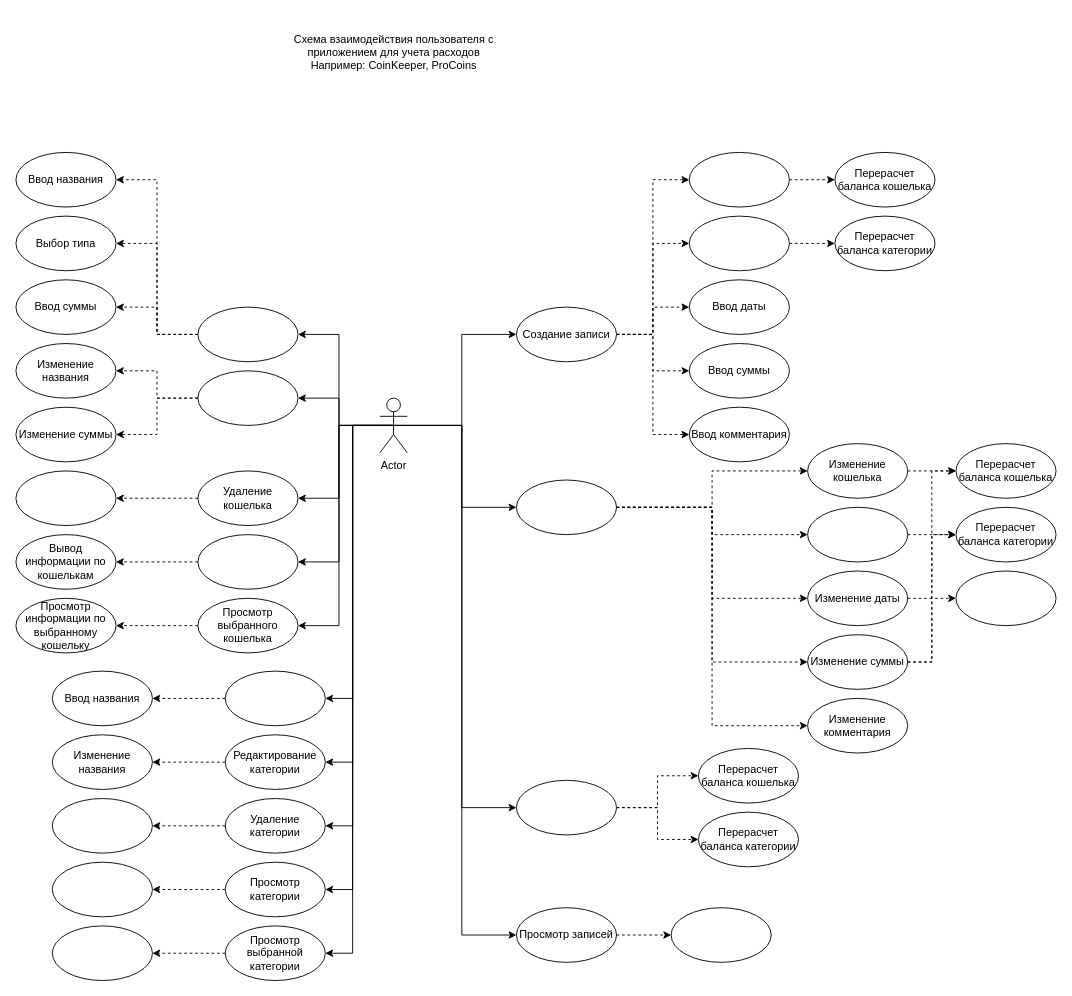
This 1072x996 diagram has some shape labels left out. Each missing label, with the centre of its shape:
Выбор категории: the point at 738,243
Выбор кошелька: the point at 738,179
Вывод информации: the point at 720,934
Вывод информации по категории: the point at 101,889
Изменение категории: the point at 857,534
Изменения порядка вывода: the point at 1005,598
Помещение в архив: the point at 65,498
Помещение категории в архив: the point at 101,825
Просмотр информации по выбранной категории: the point at 101,953
Просмотр кошельков: the point at 247,561
Редактирование записи: the point at 566,507
Редактирование кошелька: the point at 247,397
Создание категории: the point at 274,698
Создание кошелька: the point at 247,334
Удаление записи: the point at 566,807
